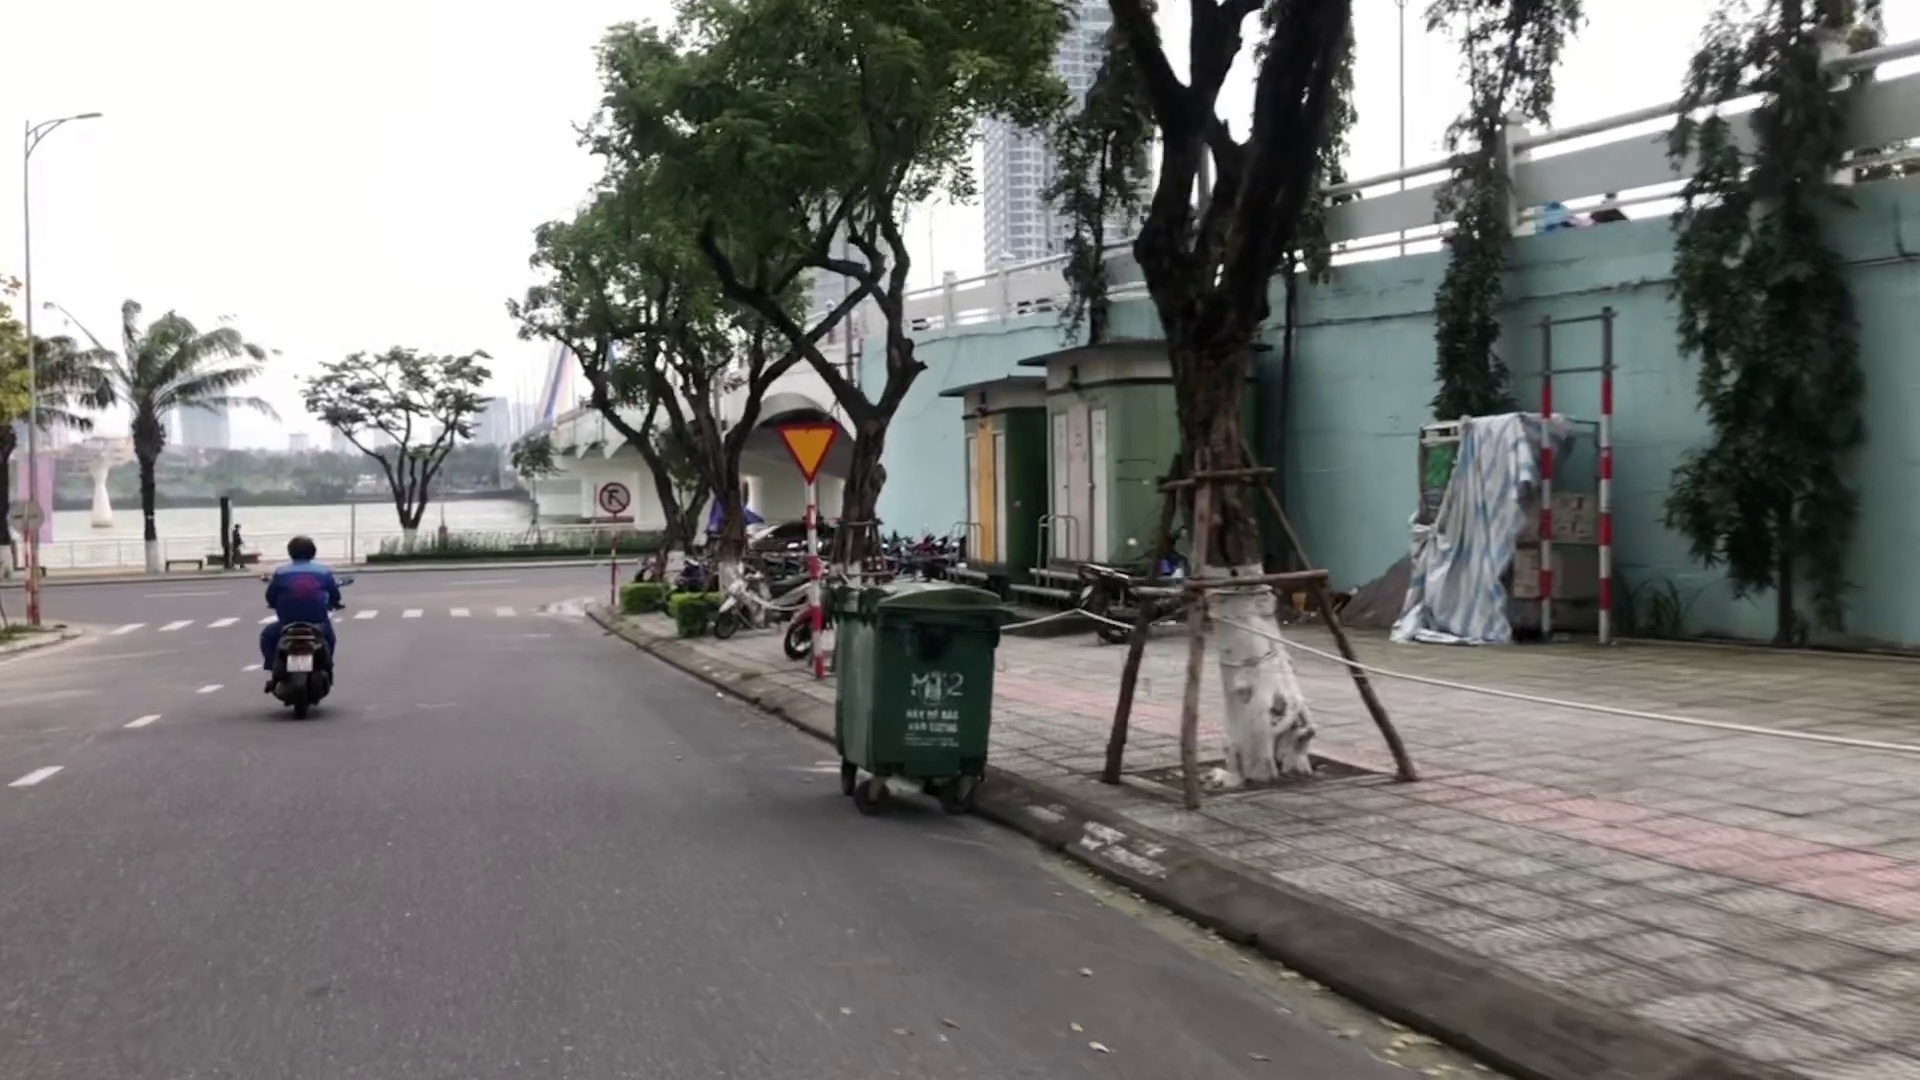Bien khac: (781, 423, 831, 480), (599, 481, 629, 514)
